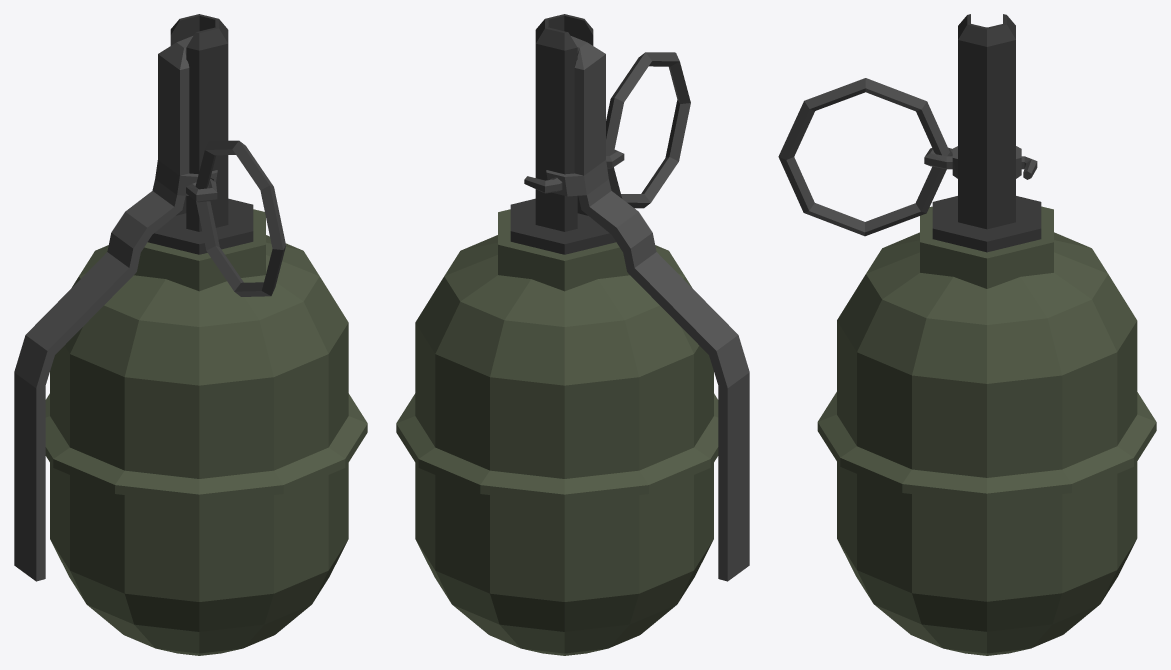
File: RGD-5.fbx
The picture shows the model from 3 angles, left to right: view 1: azimuth 30°, elevation 25°; view 2: azimuth 150°, elevation 25°; view 3: azimuth 270°, elevation 25°; orthographic projection.
Parts seen in each view (by area): view 1: Body, Lever, Ring; view 2: Body, Lever, Ring, Pin; view 3: Body, Ring, Pin.
Part boxes in pixels (<box>): Body: <box>45,14,367,655</box>; Lever: <box>14,36,217,581</box>; Ring: <box>195,140,285,296</box>; Body: <box>396,14,718,655</box>; Lever: <box>546,36,749,581</box>; Ring: <box>606,52,690,208</box>; Pin: <box>524,150,624,193</box>; Body: <box>817,14,1156,655</box>; Ring: <box>778,78,949,236</box>; Pin: <box>924,147,1037,179</box>.
Size of the model in its own units: 6.13 by 11.24 by 6.24.
